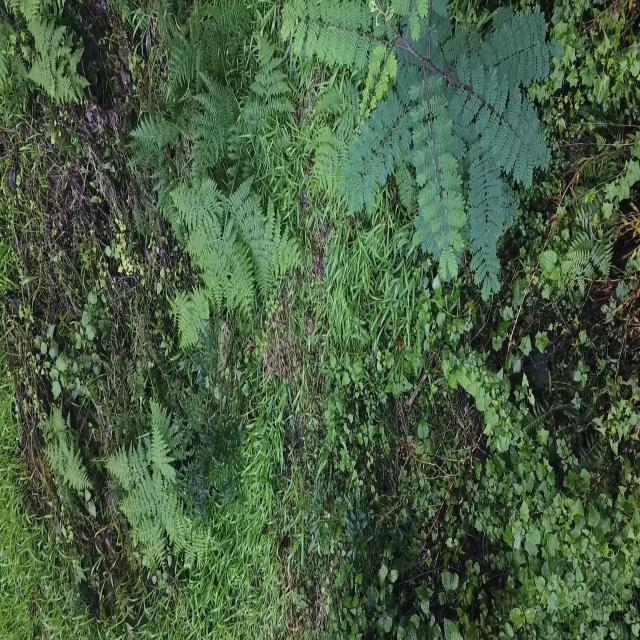Mysore-Thorn-Weed: (293, 0, 557, 274)
